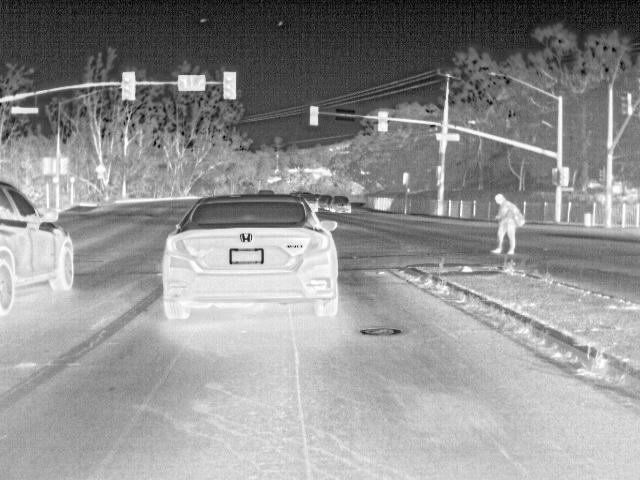car: (162, 196, 340, 320), (1, 181, 76, 318), (332, 195, 352, 210), (302, 190, 317, 208), (315, 194, 331, 210), (259, 189, 272, 198)
person: (489, 188, 527, 258)
